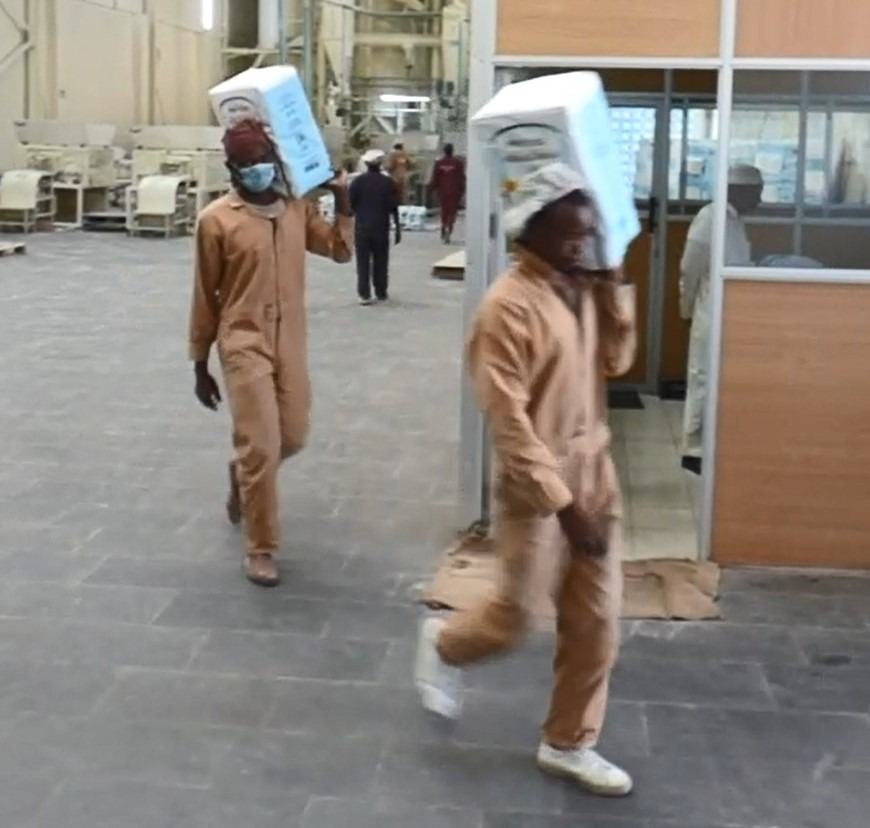wheat_flour_blue_label: (481, 70, 641, 284)
